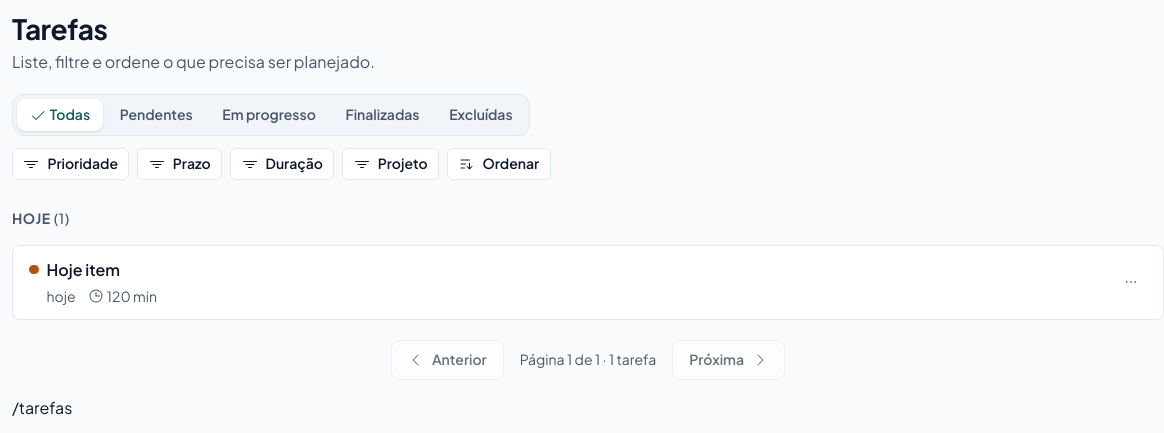
Test: TarefasPage › lista › menu de ações do card oferece Editar e Excluir
This screenshot has width=1164, height=433.
expect the text "Hoje item" is shown: met, box [47,258,120,282]
Click the button named "ações de hoje item" at [1131, 282], box [1115,266,1147,298]
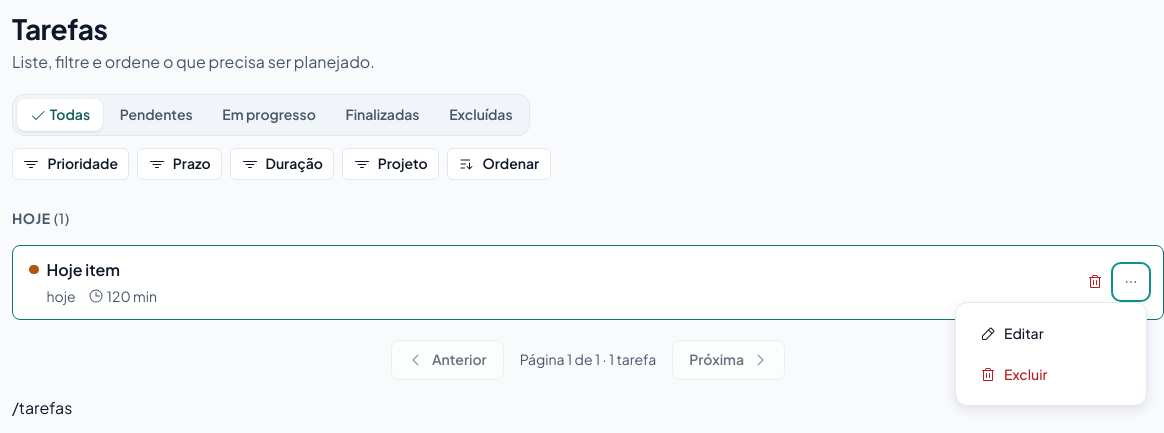
expect the button "Excluir" is shown: met, box [968,356,1134,393]
